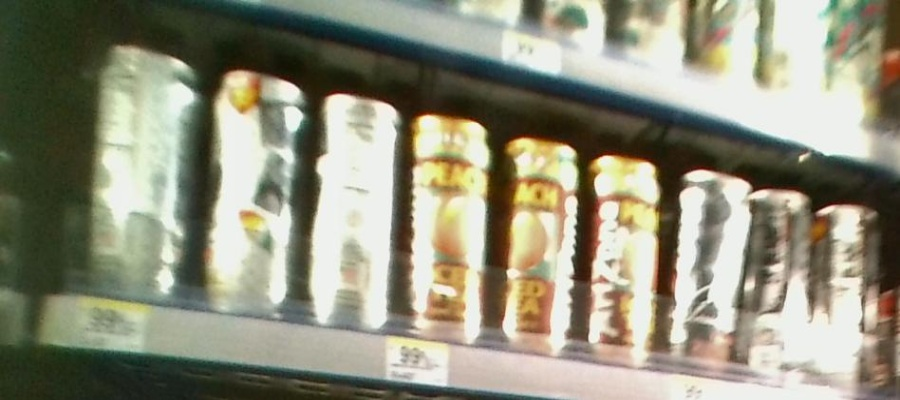bottle: (93, 37, 202, 314), (204, 40, 310, 322), (314, 75, 405, 334), (409, 102, 501, 347), (670, 152, 751, 375), (506, 122, 583, 355), (589, 140, 666, 365), (817, 185, 880, 396), (754, 172, 816, 382)
